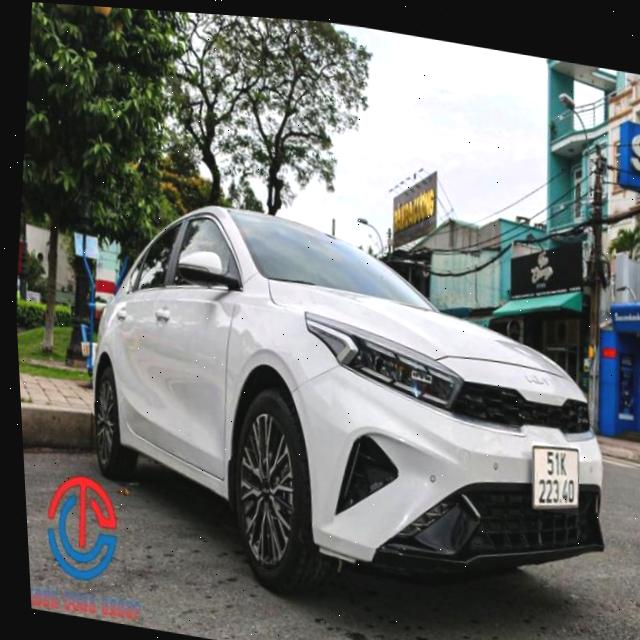car: (58, 180, 640, 640)
plate: (521, 437, 588, 518)
